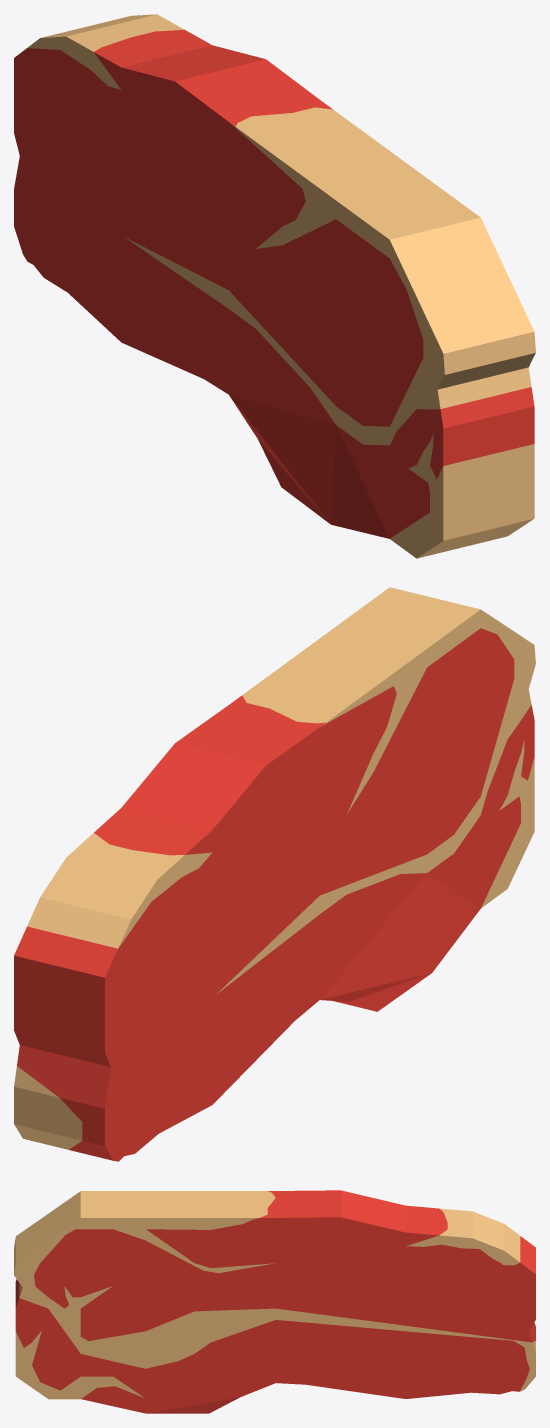
3 renders of one model, top to bottom at view 1: azimuth 30°, elevation 25°; view 2: azimuth 150°, elevation 25°; view 3: azimuth 270°, elevation 25°, orthographic. The views are drawn at different scales.
Parts seen in each view (by area): view 1: mesh_905154054; view 2: mesh_905154054; view 3: mesh_905154054.
Part boxes in pixels (x1,y1,x2,y2): mesh_905154054: [14, 14, 535, 558]; mesh_905154054: [14, 587, 535, 1161]; mesh_905154054: [14, 1190, 535, 1413].
Bounding box in the file's own units: 38 × 123 × 295.
